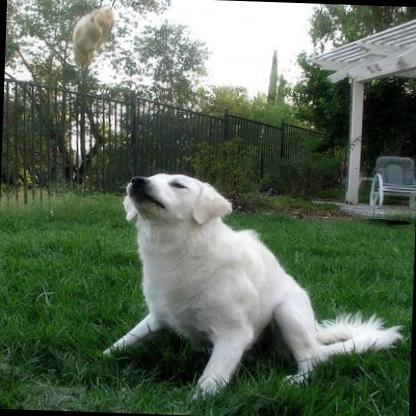kuvasz: (100, 170, 404, 411)
